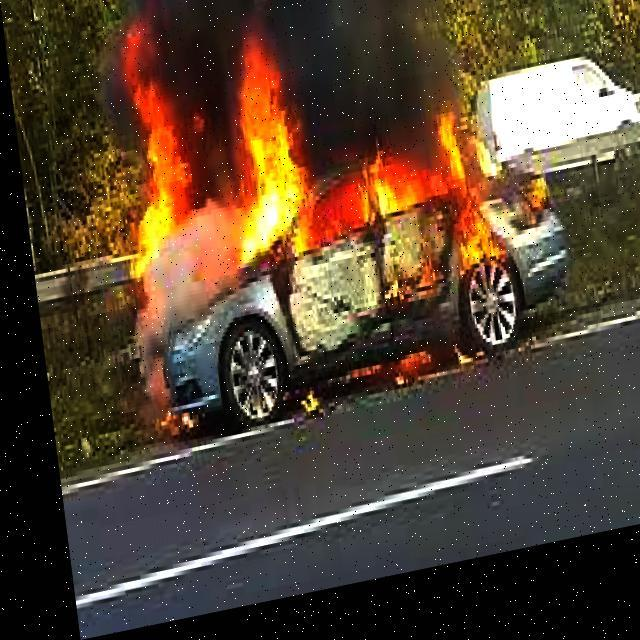Fire: (88, 0, 312, 289), (298, 101, 498, 319)
